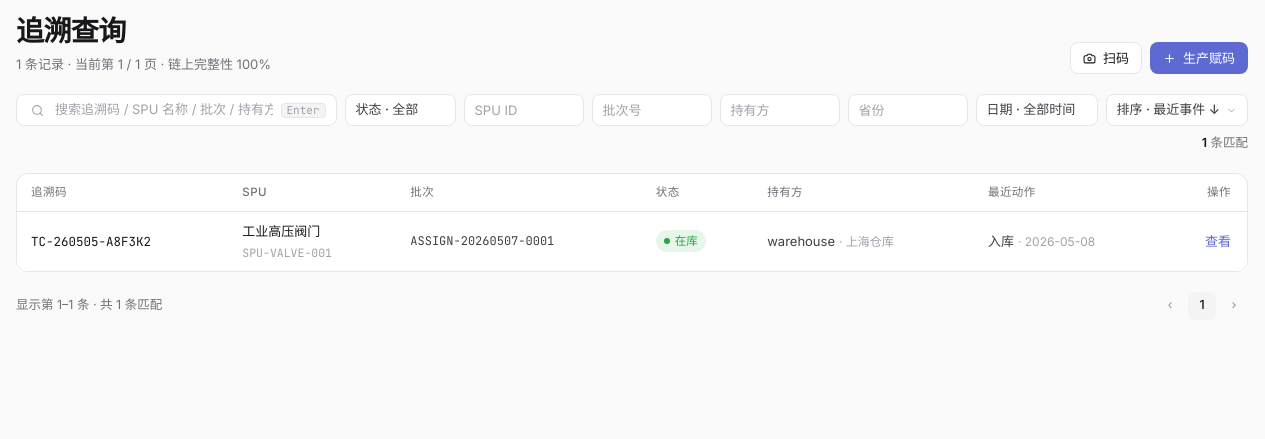
Test case: TraceList — paged list backed by GET /api/traces › navigates to detail when clicking a row and pushes recents
Click the row with test id "trace-list-row": x=632, y=241 [17,212,1247,271]
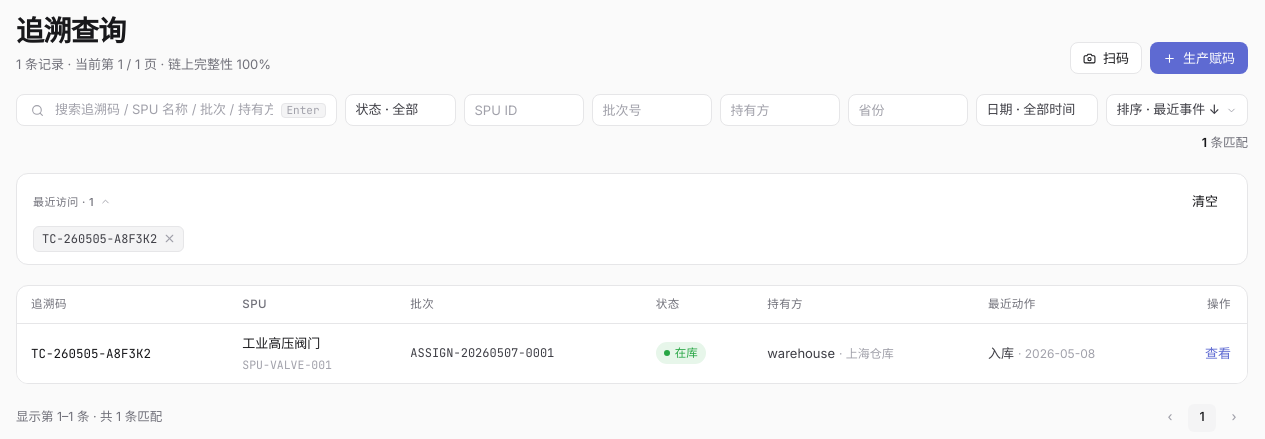
Expected: the 1st text "TC-260505-A8F3K2" is shown, [42,230,157,248]
